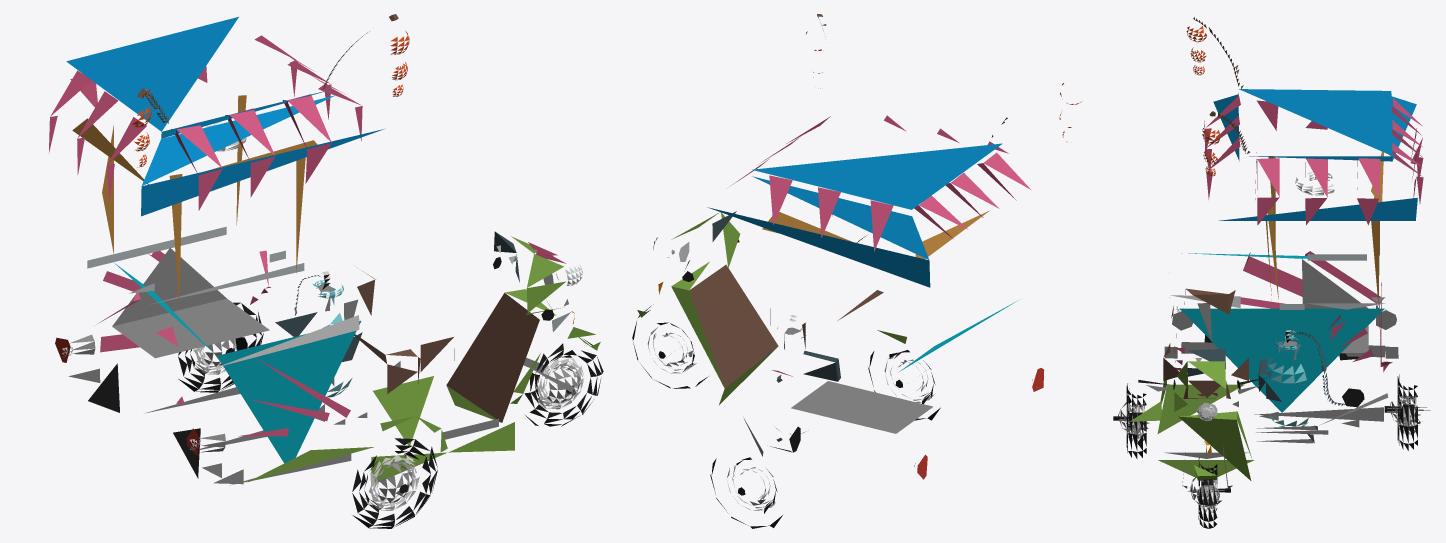
The model's file is gerobak.glb.
3 views of the same model, side by side, from view 1: azimuth 30°, elevation 25°; view 2: azimuth 150°, elevation 25°; view 3: azimuth 270°, elevation 25° (orthographic). The views are drawn at different scales.
Visible parts, largest first — view 1: geometry_0; view 2: geometry_0; view 3: geometry_0.
Part boxes in pixels (x1=…): geometry_0: x1=49, y1=14, x2=603, y2=528; geometry_0: x1=632, y1=14, x2=1081, y2=528; geometry_0: x1=1113, y1=17, x2=1430, y2=528.
Bounding box in the file's own units: 4.39 × 4.05 × 3.21.
